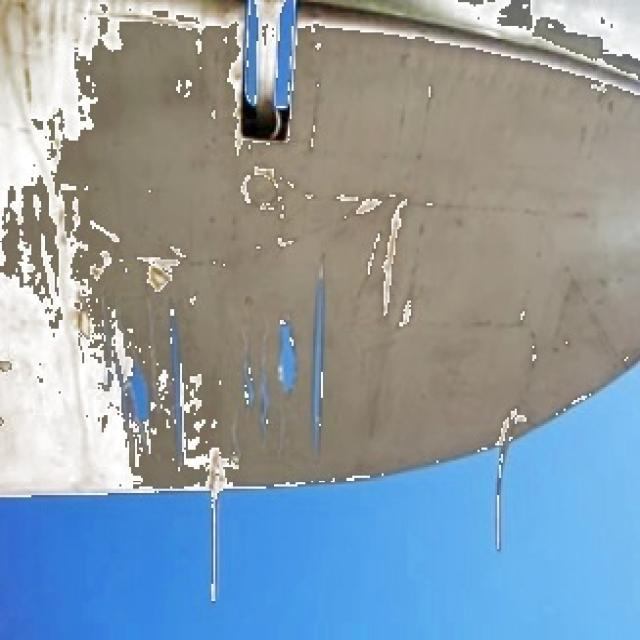crack: (107, 252, 332, 468)
